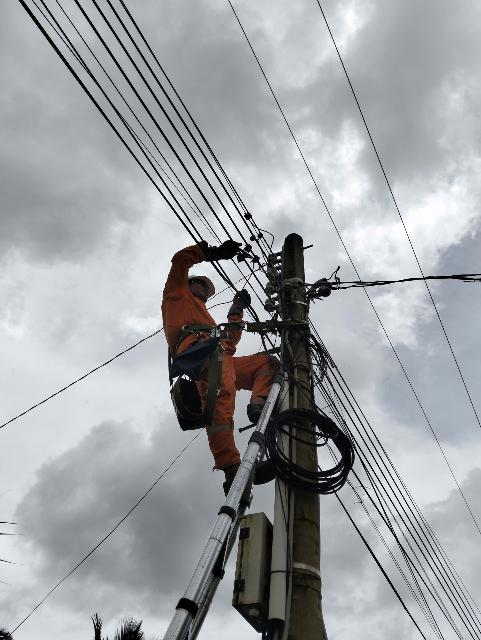gloves: (211, 237, 245, 265), (230, 286, 251, 317)
harness: (175, 319, 224, 332)
helmet: (186, 272, 219, 299)
shoes: (212, 464, 290, 480), (249, 401, 275, 418)
